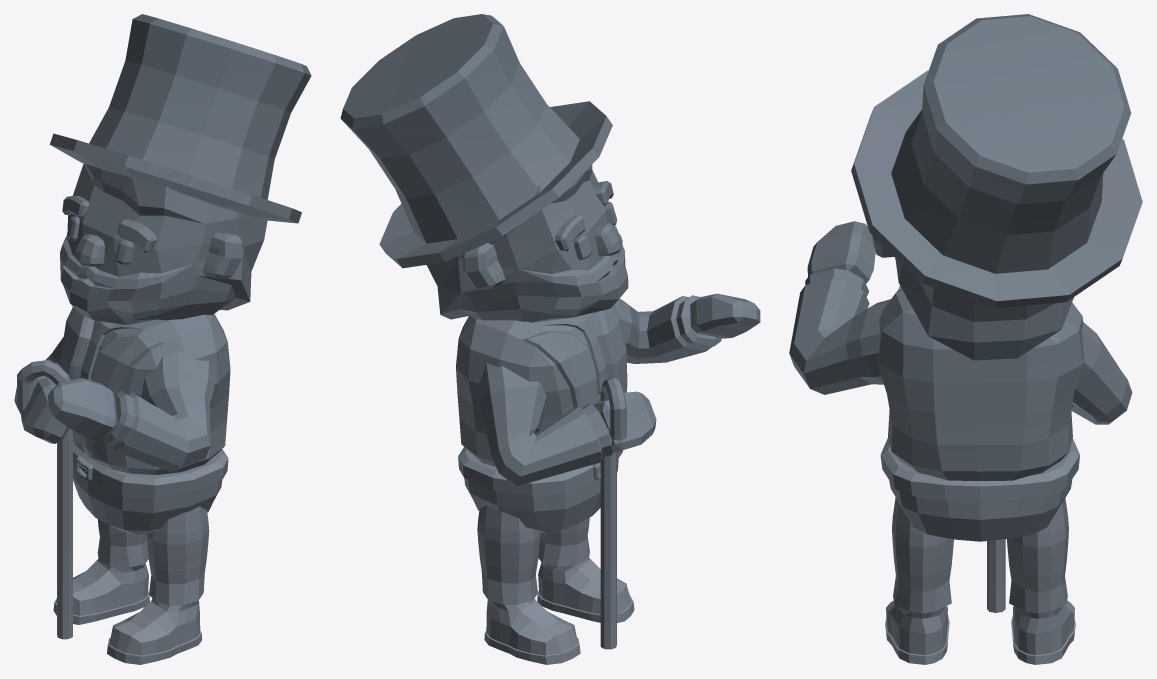
File: Mayor_Statue_C.fbx
3 renders of one model, left to right at view 1: azimuth 30°, elevation 25°; view 2: azimuth 150°, elevation 25°; view 3: azimuth 270°, elevation 25°, orthographic. The views are drawn at different scales.
Visible parts, largest first — view 1: Mayor_Statue_C; view 2: Mayor_Statue_C; view 3: Mayor_Statue_C.
Boxes of the visible parts, <box> form: Mayor_Statue_C: <box>14,14,311,664</box>; Mayor_Statue_C: <box>340,14,760,664</box>; Mayor_Statue_C: <box>789,14,1142,664</box>.
Bounding box in the file's own units: 674 × 1157 × 566.
